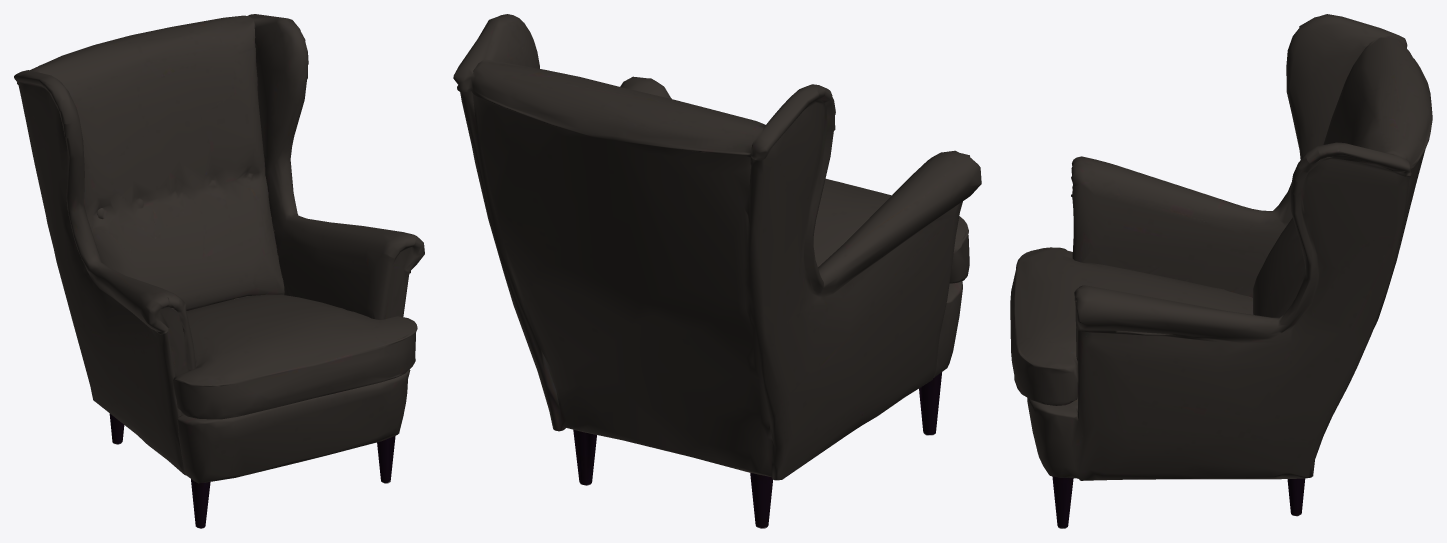
Rendered from strandmon_fotel_uszak_00494638.glb.
The picture shows the model from 3 angles, left to right: view 1: azimuth 30°, elevation 25°; view 2: azimuth 150°, elevation 25°; view 3: azimuth 270°, elevation 25°; orthographic projection. The views are drawn at different scales.
Visible parts, largest first — view 1: strandmon_fotel_uszak_00494638; view 2: strandmon_fotel_uszak_00494638; view 3: strandmon_fotel_uszak_00494638.
Part boxes in pixels (x1,y1,x2,y2): strandmon_fotel_uszak_00494638: [14, 14, 424, 528]; strandmon_fotel_uszak_00494638: [453, 14, 981, 528]; strandmon_fotel_uszak_00494638: [1010, 14, 1432, 528].
Bounding box in the file's own units: 0.8094 × 1.01 × 0.973.
Materials: 1 (1 with a texture image).
